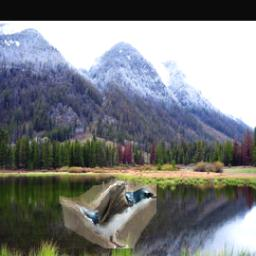Swallow: (59, 179, 157, 249)
